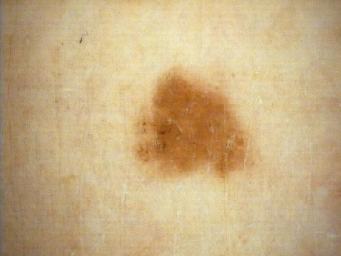nevus: (136, 74, 245, 181)
